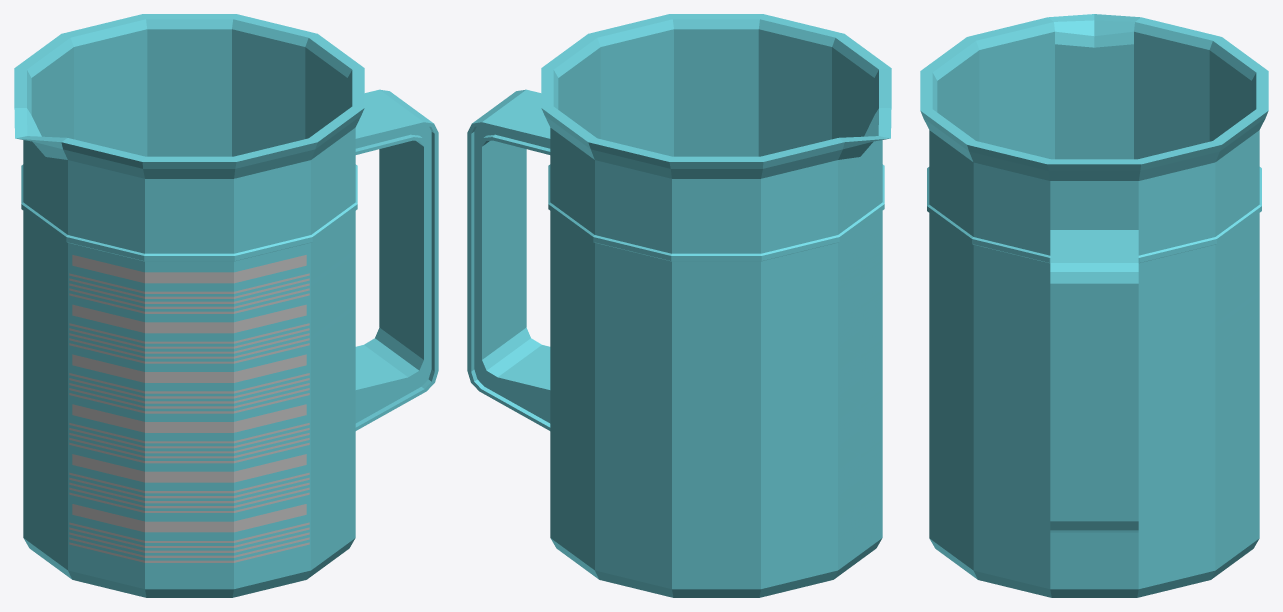
Rendered from SM_Beaker_02_B.gltf.
3 renders of one model, left to right at view 1: azimuth 30°, elevation 25°; view 2: azimuth 150°, elevation 25°; view 3: azimuth 270°, elevation 25°, orthographic.
Parts seen in each view (by area): view 1: SM_Beaker_02_B; view 2: SM_Beaker_02_B; view 3: SM_Beaker_02_B.
Part boxes in pixels (x1=…): SM_Beaker_02_B: x1=14, y1=14, x2=438, y2=597; SM_Beaker_02_B: x1=467, y1=14, x2=891, y2=597; SM_Beaker_02_B: x1=920, y1=14, x2=1268, y2=597.
Bounding box in the file's own units: 0.188 × 0.2001 × 0.1421.
